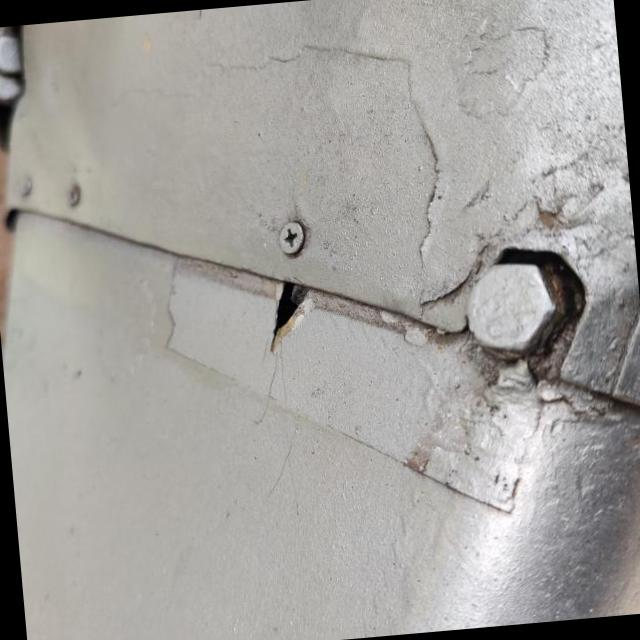Crack: (271, 282, 314, 351)
